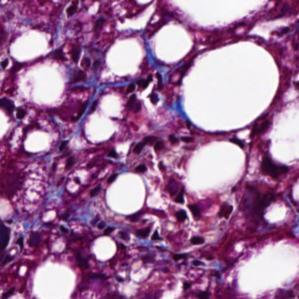inflammation: (93, 217, 165, 248), (124, 131, 170, 174), (121, 73, 163, 114), (165, 188, 208, 226), (59, 43, 97, 73)
